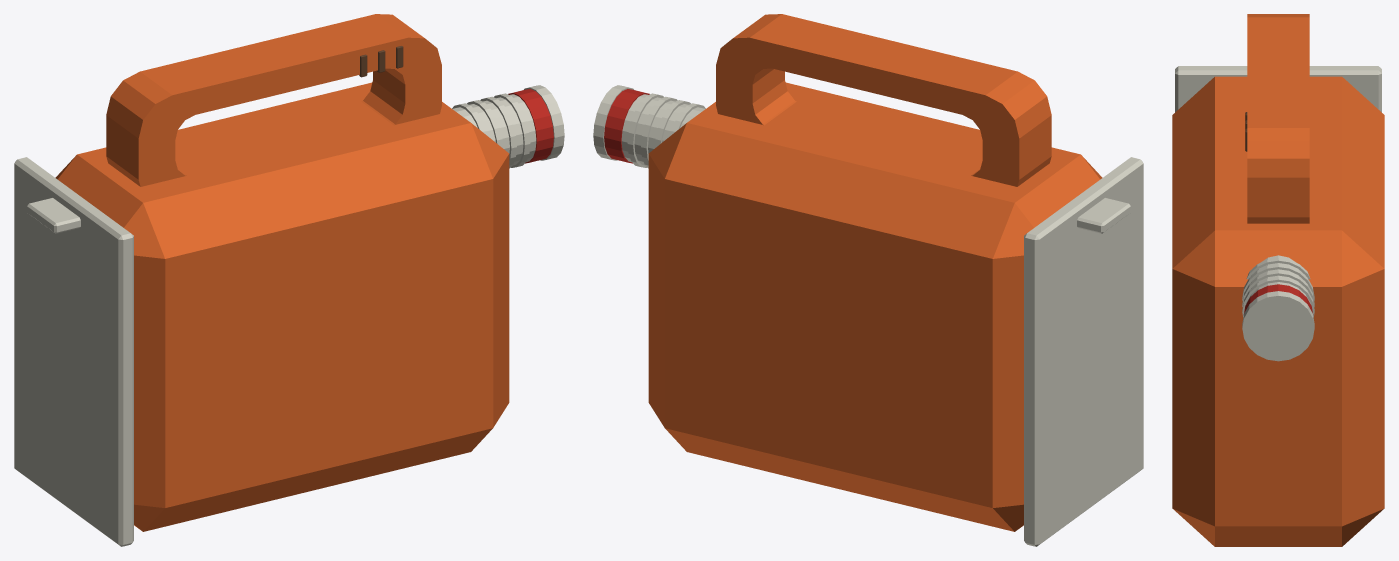
Rendered from full.glb.
3 renders of one model, left to right at view 1: azimuth 30°, elevation 25°; view 2: azimuth 150°, elevation 25°; view 3: azimuth 270°, elevation 25°, orthographic. The views are drawn at different scales.
Visible parts, largest first — view 1: Rounded closed appliance body, Pale perimeter end plate, Integral arch carrying handle, Short pale external neck, Red exterior neck band, Small projecting end tab, Pale sealed outer rim; view 2: Rounded closed appliance body, Pale perimeter end plate, Integral arch carrying handle, Short pale external neck, Red exterior neck band, Small projecting end tab, Pale sealed outer rim; view 3: Rounded closed appliance body, Integral arch carrying handle, Pale sealed outer rim, Pale perimeter end plate, Short pale external neck, External neck rib 3, Red exterior neck band, External neck rib 1, External neck rib 2, External neck rib 0.
Part boxes in pixels (<box>): Rounded closed appliance body: <box>55,82,509,531</box>; Pale perimeter end plate: <box>14,157,133,546</box>; Integral arch carrying handle: <box>106,14,441,186</box>; Short pale external neck: <box>452,94,536,165</box>; Red exterior neck band: <box>508,89,553,163</box>; Small projecting end tab: <box>27,198,80,233</box>; Pale sealed outer rim: <box>524,85,564,160</box>; Rounded closed appliance body: <box>648,82,1102,531</box>; Pale perimeter end plate: <box>1024,157,1143,546</box>; Integral arch carrying handle: <box>716,14,1051,186</box>; Short pale external neck: <box>621,94,705,165</box>; Red exterior neck band: <box>604,89,649,163</box>; Small projecting end tab: <box>1077,198,1130,233</box>; Pale sealed outer rim: <box>593,85,633,160</box>; Rounded closed appliance body: <box>1172,76,1384,546</box>; Integral arch carrying handle: <box>1247,14,1309,223</box>; Pale sealed outer rim: <box>1242,291,1314,361</box>; Pale perimeter end plate: <box>1175,66,1381,112</box>; Short pale external neck: <box>1246,255,1310,303</box>; External neck rib 3: <box>1242,277,1314,316</box>; Red exterior neck band: <box>1243,284,1313,314</box>; External neck rib 1: <box>1242,264,1314,300</box>; External neck rib 2: <box>1242,270,1314,306</box>; External neck rib 0: <box>1246,258,1310,279</box>.
Bounding box in the file's own units: 0.45 × 0.3515 × 0.17.
